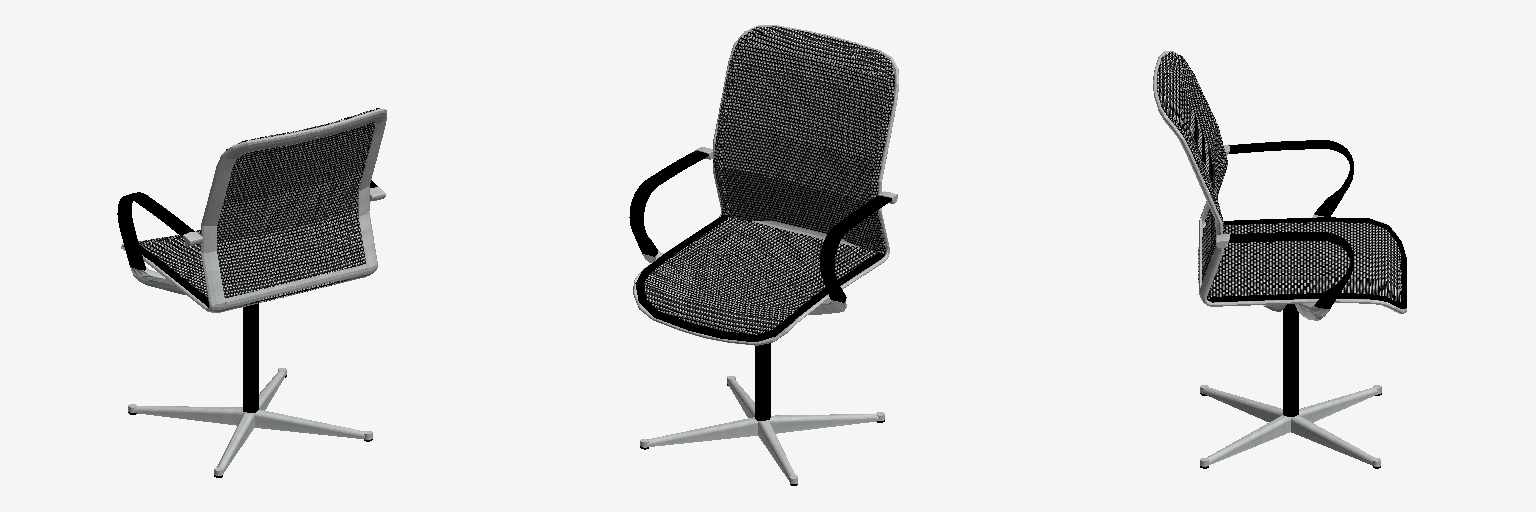
The picture shows the model from 3 angles: view 1: azimuth 30°, elevation 25°; view 2: azimuth 150°, elevation 25°; view 3: azimuth 270°, elevation 25°; orthographic projection.
Visible parts, largest first — view 1: mesh28_mesh28-geometry, mesh16_mesh16-geometry, mesh8_mesh8-geometry, mesh29_mesh29-geometry, mesh4_mesh4-geometry, mesh27_mesh27-geometry, mesh1_mesh1-geometry, mesh7_mesh7-geometry, mesh15_mesh15-geometry, mesh20_mesh20-geometry, mesh12_mesh12-geometry, mesh17_mesh17-geometry (+1 smaller); view 2: mesh28_mesh28-geometry, mesh29_mesh29-geometry, mesh30_mesh30-geometry, mesh31_mesh31-geometry, mesh2_mesh2-geometry, mesh4_mesh4-geometry, mesh16_mesh16-geometry, mesh6_mesh6-geometry, mesh15_mesh15-geometry, mesh27_mesh27-geometry, mesh7_mesh7-geometry, mesh8_mesh8-geometry; view 3: mesh29_mesh29-geometry, mesh28_mesh28-geometry, mesh8_mesh8-geometry, mesh31_mesh31-geometry, mesh27_mesh27-geometry, mesh4_mesh4-geometry, mesh2_mesh2-geometry, mesh30_mesh30-geometry, mesh1_mesh1-geometry, mesh6_mesh6-geometry, mesh7_mesh7-geometry, mesh15_mesh15-geometry.
Part boxes in pixels (left/top/right/bottom): mesh28_mesh28-geometry: left=217, top=122, right=373, bottom=302; mesh16_mesh16-geometry: left=121, top=128, right=319, bottom=312; mesh8_mesh8-geometry: left=317, top=109, right=386, bottom=277; mesh29_mesh29-geometry: left=138, top=230, right=348, bottom=304; mesh4_mesh4-geometry: left=117, top=192, right=194, bottom=270; mesh27_mesh27-geometry: left=243, top=303, right=258, bottom=412; mesh1_mesh1-geometry: left=254, top=409, right=372, bottom=439; mesh7_mesh7-geometry: left=128, top=404, right=243, bottom=425; mesh15_mesh15-geometry: left=214, top=412, right=254, bottom=475; mesh20_mesh20-geometry: left=223, top=281, right=295, bottom=311; mesh12_mesh12-geometry: left=296, top=264, right=366, bottom=289; mesh17_mesh17-geometry: left=130, top=267, right=185, bottom=294; mesh28_mesh28-geometry: left=721, top=33, right=887, bottom=252; mesh29_mesh29-geometry: left=644, top=217, right=876, bottom=334; mesh30_mesh30-geometry: left=713, top=26, right=894, bottom=257; mesh31_mesh31-geometry: left=635, top=210, right=884, bottom=341; mesh2_mesh2-geometry: left=629, top=151, right=708, bottom=256; mesh4_mesh4-geometry: left=820, top=195, right=891, bottom=302; mesh16_mesh16-geometry: left=704, top=36, right=898, bottom=345; mesh6_mesh6-geometry: left=640, top=417, right=758, bottom=447; mesh15_mesh15-geometry: left=769, top=412, right=884, bottom=433; mesh27_mesh27-geometry: left=755, top=343, right=770, bottom=420; mesh7_mesh7-geometry: left=758, top=420, right=797, bottom=483; mesh8_mesh8-geometry: left=633, top=25, right=829, bottom=337; mesh29_mesh29-geometry: left=1198, top=222, right=1401, bottom=301; mesh28_mesh28-geometry: left=1163, top=58, right=1223, bottom=281; mesh8_mesh8-geometry: left=1153, top=82, right=1406, bottom=313; mesh31_mesh31-geometry: left=1205, top=217, right=1406, bottom=308; mesh27_mesh27-geometry: left=1283, top=304, right=1298, bottom=416; mesh4_mesh4-geometry: left=1229, top=140, right=1353, bottom=216; mesh2_mesh2-geometry: left=1228, top=232, right=1353, bottom=308; mesh30_mesh30-geometry: left=1157, top=51, right=1227, bottom=302; mesh1_mesh1-geometry: left=1200, top=415, right=1290, bottom=466; mesh6_mesh6-geometry: left=1291, top=415, right=1380, bottom=466; mesh7_mesh7-geometry: left=1299, top=385, right=1381, bottom=422; mesh15_mesh15-geometry: left=1200, top=385, right=1282, bottom=421.
Size of the model in its own units: 0.4547 by 0.7429 by 0.4912.
Materials: 4 (2 with a texture image).